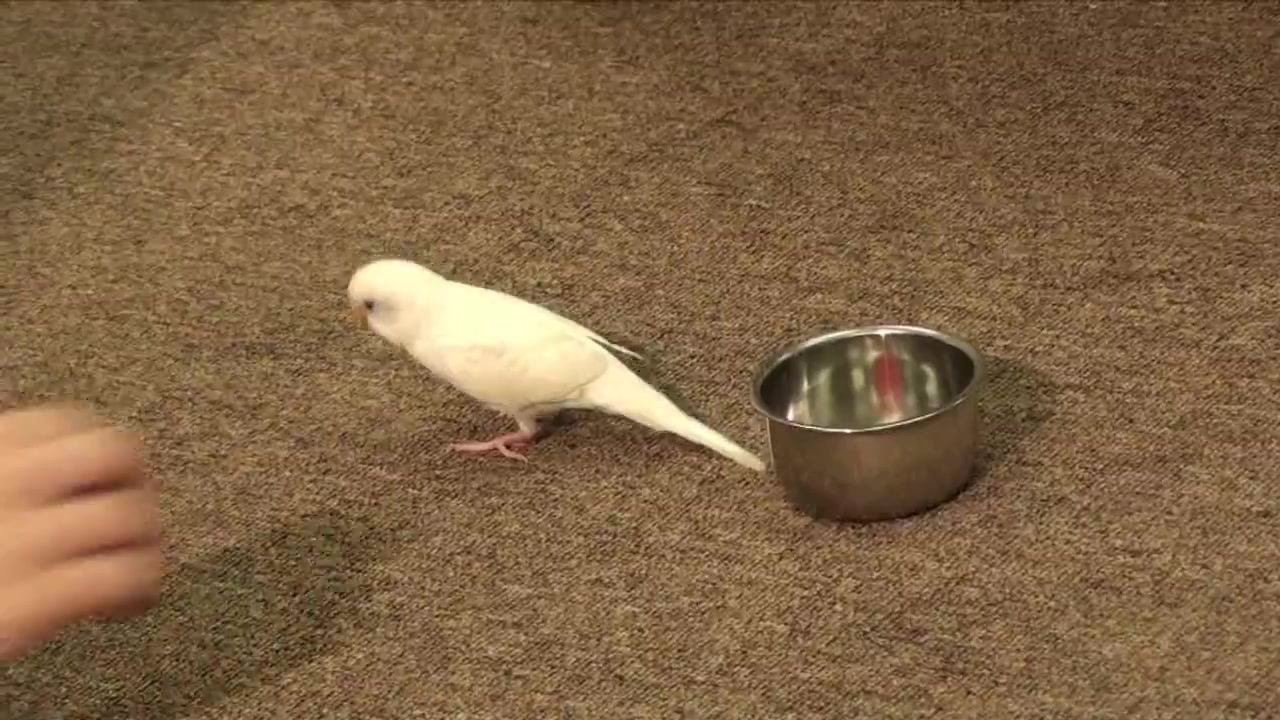bird: (341, 253, 768, 478)
